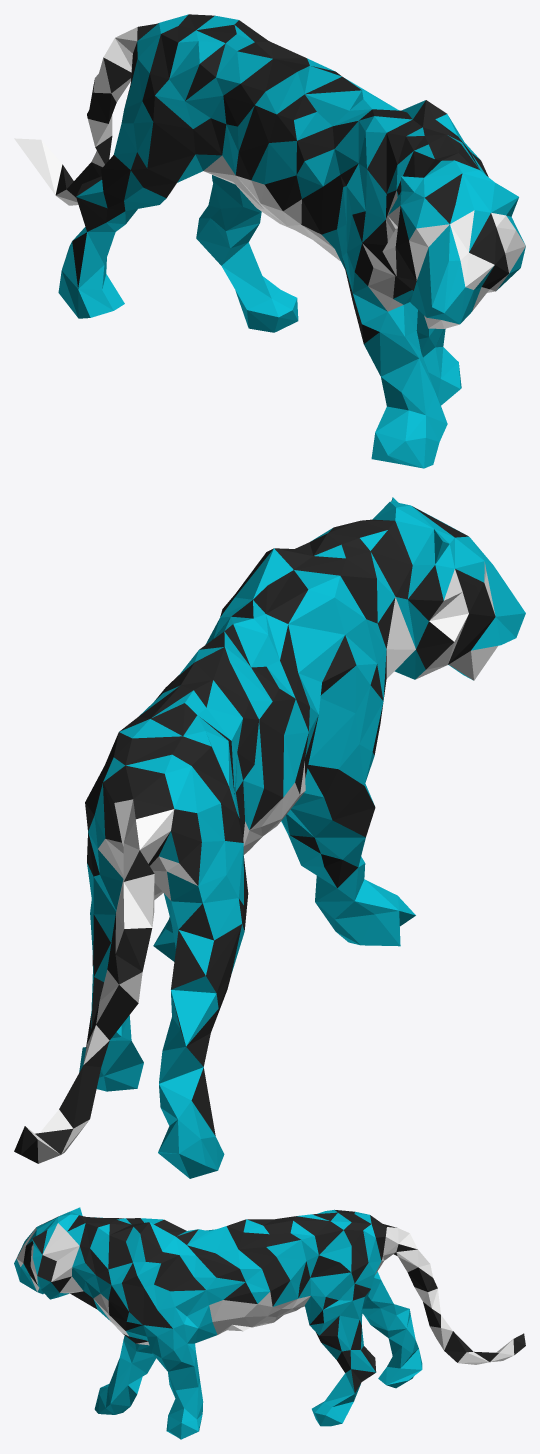
The model's file is animal_017.fbx.
3 renders of one model, top to bottom at view 1: azimuth 30°, elevation 25°; view 2: azimuth 150°, elevation 25°; view 3: azimuth 270°, elevation 25°, orthographic. The views are drawn at different scales.
Parts seen in each view (by area): view 1: animal.017; view 2: animal.017; view 3: animal.017.
Boxes of the visible parts, <box> form: animal.017: <box>14,14,525,468</box>; animal.017: <box>14,497,525,1178</box>; animal.017: <box>14,1207,525,1439</box>.
Size of the model in its own units: 99 by 143 by 327.
Materials: 1 (1 with a texture image).
